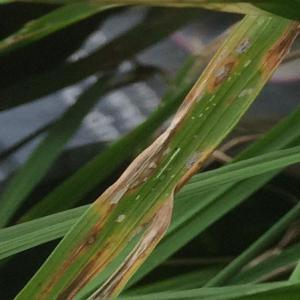1 RiceBlast: (234, 32, 263, 59), (210, 60, 234, 92)
